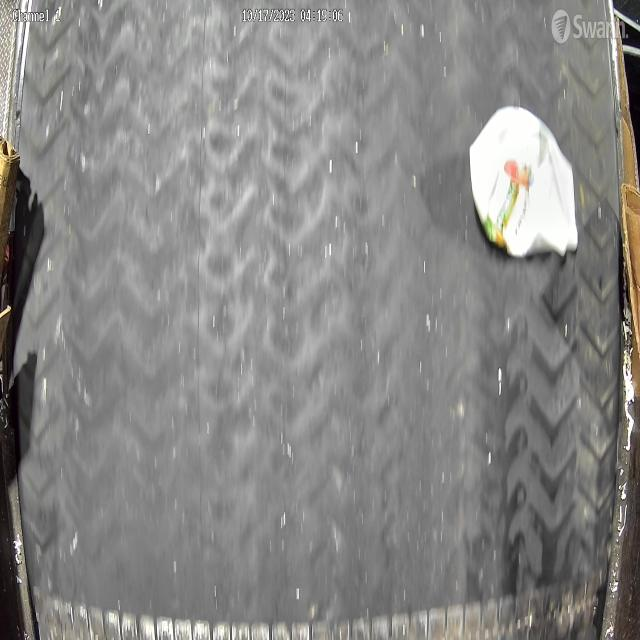milk_jug: (471, 109, 581, 262)
